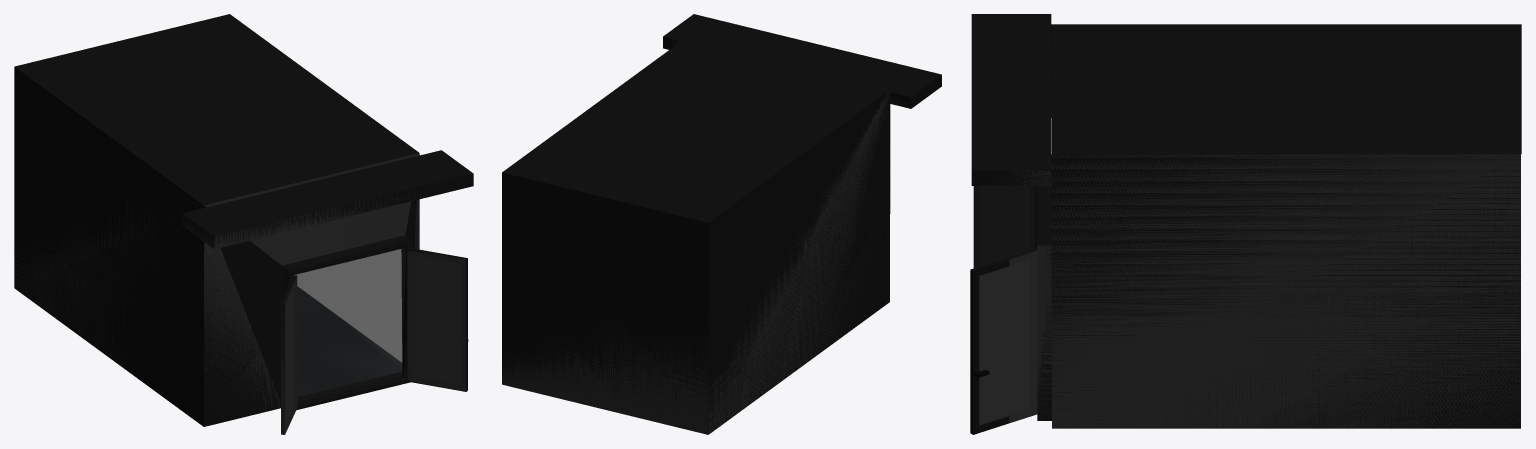
File: shop-black.glb
The picture shows the model from 3 angles, left to right: view 1: azimuth 30°, elevation 25°; view 2: azimuth 150°, elevation 25°; view 3: azimuth 270°, elevation 25°; orthographic projection. The views are drawn at different scales.
Parts seen in each view (by area): view 1: ShopBlack; view 2: ShopBlack; view 3: ShopBlack.
Part boxes in pixels (left/top/right/bottom): ShopBlack: left=14, top=14, right=473, bottom=434; ShopBlack: left=502, top=14, right=941, bottom=434; ShopBlack: left=970, top=14, right=1521, bottom=434.
Bounding box in the file's own units: 6.11 × 4.99 × 9.1.
2 materials, 1 textured.
